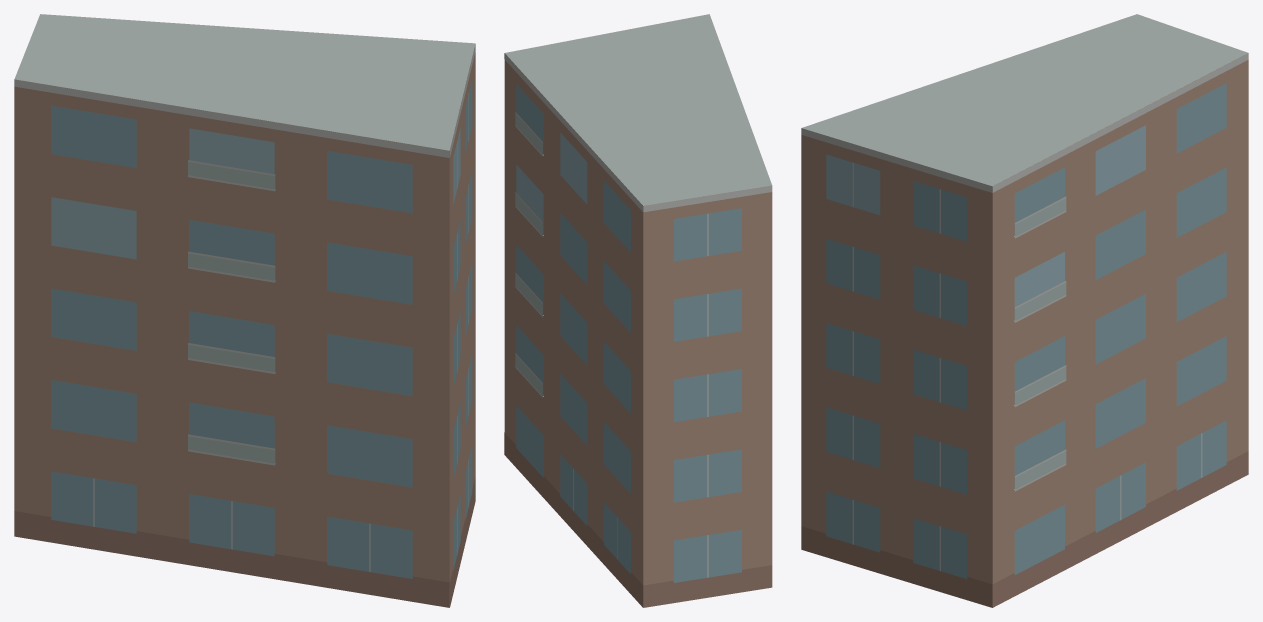
The model's file is survey-upis-32680122.glb.
3 views of the same model, side by side, from view 1: azimuth 30°, elevation 25°; view 2: azimuth 150°, elevation 25°; view 3: azimuth 270°, elevation 25° (orthographic). The views are drawn at different scales.
Visible parts, largest first — view 1: survey-upis-32680122.tmp; view 2: survey-upis-32680122.tmp; view 3: survey-upis-32680122.tmp.
Part boxes in pixels (box(x1,y1,x2,y2)): survey-upis-32680122.tmp: box(14, 14, 475, 607); survey-upis-32680122.tmp: box(504, 14, 772, 607); survey-upis-32680122.tmp: box(801, 14, 1248, 607).
Bounding box in the file's own units: 13.47 × 15.36 × 14.78.
